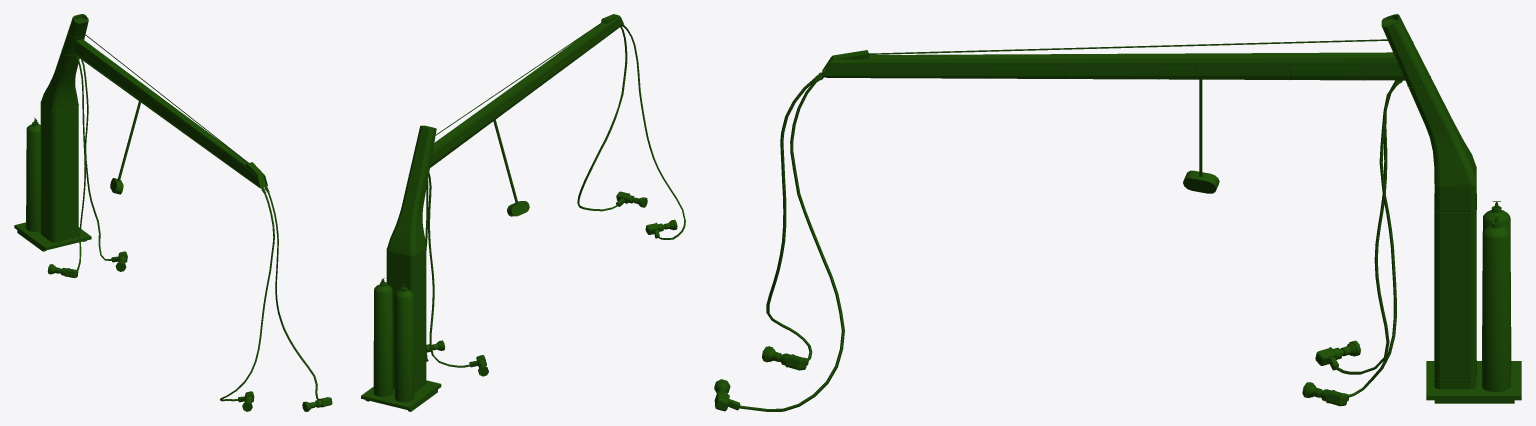
The model's file is PitStop Equip01.fbx.
The picture shows the model from 3 angles, left to right: view 1: azimuth 30°, elevation 25°; view 2: azimuth 150°, elevation 25°; view 3: azimuth 270°, elevation 25°; orthographic projection. The views are drawn at different scales.
Parts seen in each view (by area): view 1: PitStop Equip01_NKit, PitStop Equip01_NKit_Wires, PSE_Cylinder1, PitStop Equip01_NKit_Pitguns, PitStop Equip01_NKit_Detail; view 2: PitStop Equip01_NKit, PSE_Cylinder2, PSE_Cylinder1, PitStop Equip01_NKit_Wires, PitStop Equip01_NKit_Pitguns; view 3: PitStop Equip01_NKit, PitStop Equip01_NKit_Wires, PSE_Cylinder2, PitStop Equip01_NKit_Pitguns, PitStop Equip01_NKit_Detail.
Part boxes in pixels (x1,y1,x2,y2): PitStop Equip01_NKit: [14, 14, 269, 251]; PitStop Equip01_NKit_Wires: [76, 58, 318, 401]; PSE_Cylinder1: [26, 117, 40, 231]; PitStop Equip01_NKit_Pitguns: [47, 251, 332, 411]; PitStop Equip01_NKit_Detail: [41, 31, 207, 235]; PitStop Equip01_NKit: [361, 14, 624, 411]; PSE_Cylinder2: [373, 278, 393, 396]; PSE_Cylinder1: [394, 283, 414, 402]; PitStop Equip01_NKit_Wires: [425, 25, 685, 367]; PitStop Equip01_NKit_Pitguns: [426, 191, 677, 376]; PitStop Equip01_NKit: [815, 14, 1521, 403]; PitStop Equip01_NKit_Wires: [739, 77, 1396, 411]; PSE_Cylinder2: [1481, 216, 1510, 391]; PitStop Equip01_NKit_Pitguns: [714, 340, 1360, 411]; PitStop Equip01_NKit_Detail: [986, 42, 1476, 379].
Bounding box in the file's own units: 0.5291 × 1.27 × 2.5.
